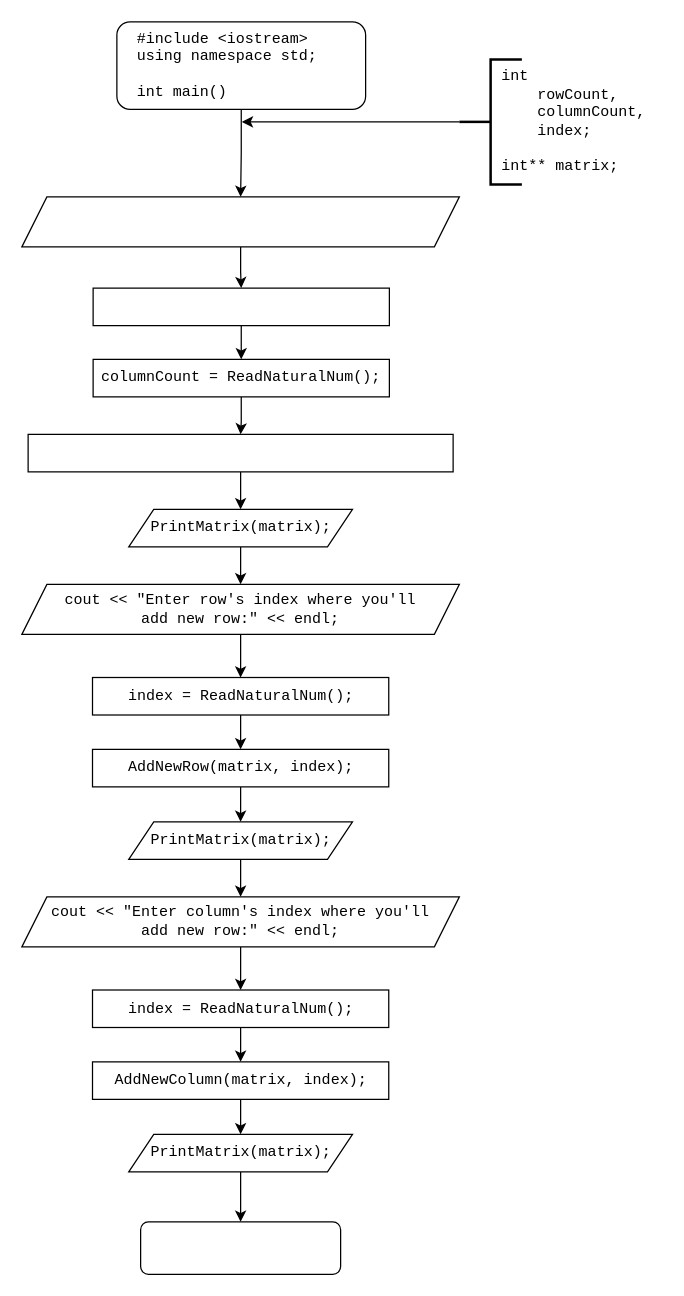
Image size: 684x1296. Some labels were removed from this diagram. The shapes that lost their labels are listed below. From the top down, each one's centre as x and y in pixels, then its label:
point (240, 221): cout << "Enter the row's count and column's count of new matrix:" << endl;
point (240, 306): rowCount = ReadNaturalNum();
point (240, 452): matrix = NewMatrix(rowCount, columnCount);
point (240, 1247): delete[] matrix; return 0;
